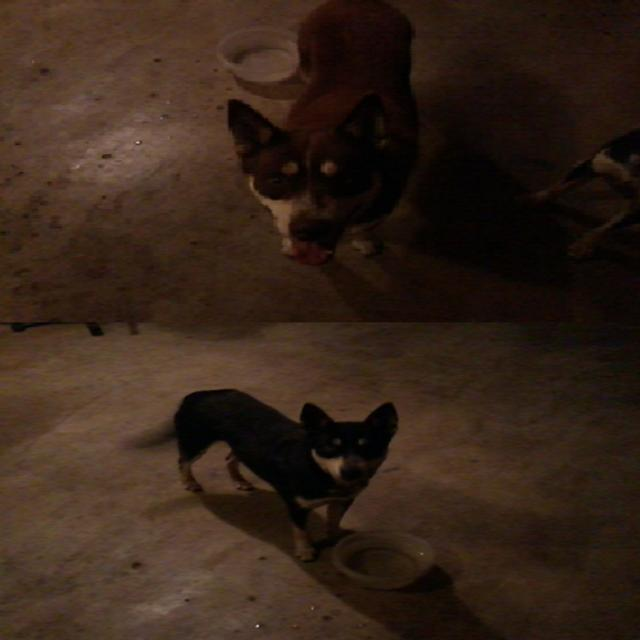Dog: (72, 368, 522, 559), (213, 0, 503, 269)
